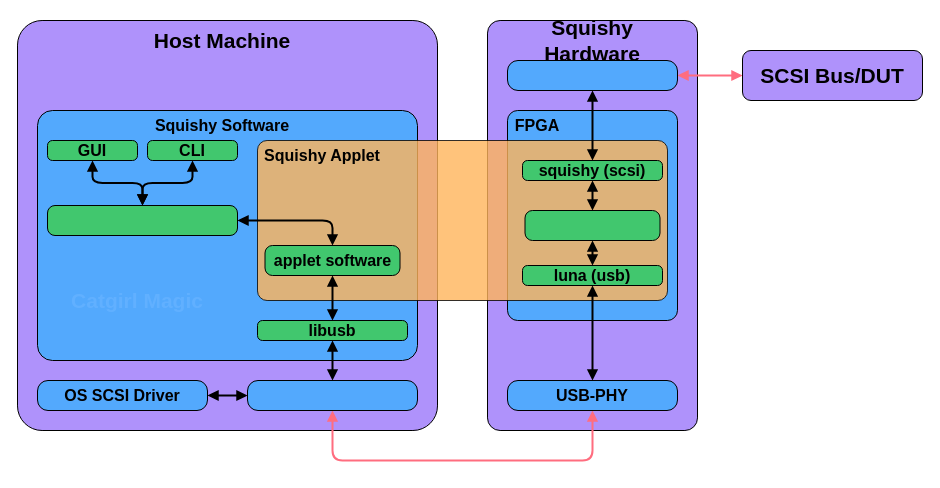
The diagram is 940 pixels wide and 488 high, and some of its shapes have lost their labels. The centre of each missing label's shape, as x and y in pixels:
"applet gateware" goes at point 592,225.
"SCSI PHY" goes at point 592,75.
"software interface" goes at point 142,220.
"USB" goes at point 332,395.
